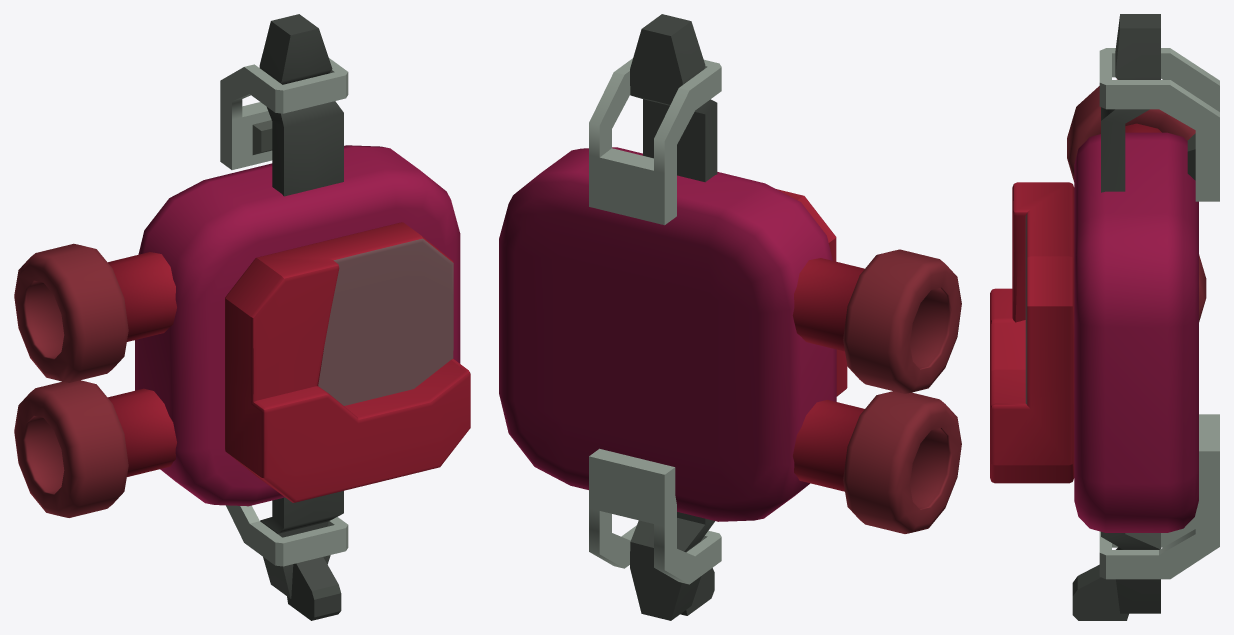
File: Procesor_Cooling_lvl_09_V03.fbx
The picture shows the model from 3 angles, left to right: view 1: azimuth 30°, elevation 25°; view 2: azimuth 150°, elevation 25°; view 3: azimuth 270°, elevation 25°; orthographic projection. The views are drawn at different scales.
Parts seen in each view (by area): view 1: Procesor_Cooling_lvl_09; view 2: Procesor_Cooling_lvl_09; view 3: Procesor_Cooling_lvl_09.
Part boxes in pixels (x1,y1,x2,y2): Procesor_Cooling_lvl_09: (14, 14, 470, 620); Procesor_Cooling_lvl_09: (499, 14, 961, 620); Procesor_Cooling_lvl_09: (990, 14, 1219, 620).
Bounding box in the file's own units: 32.81 × 45.04 × 15.83.
